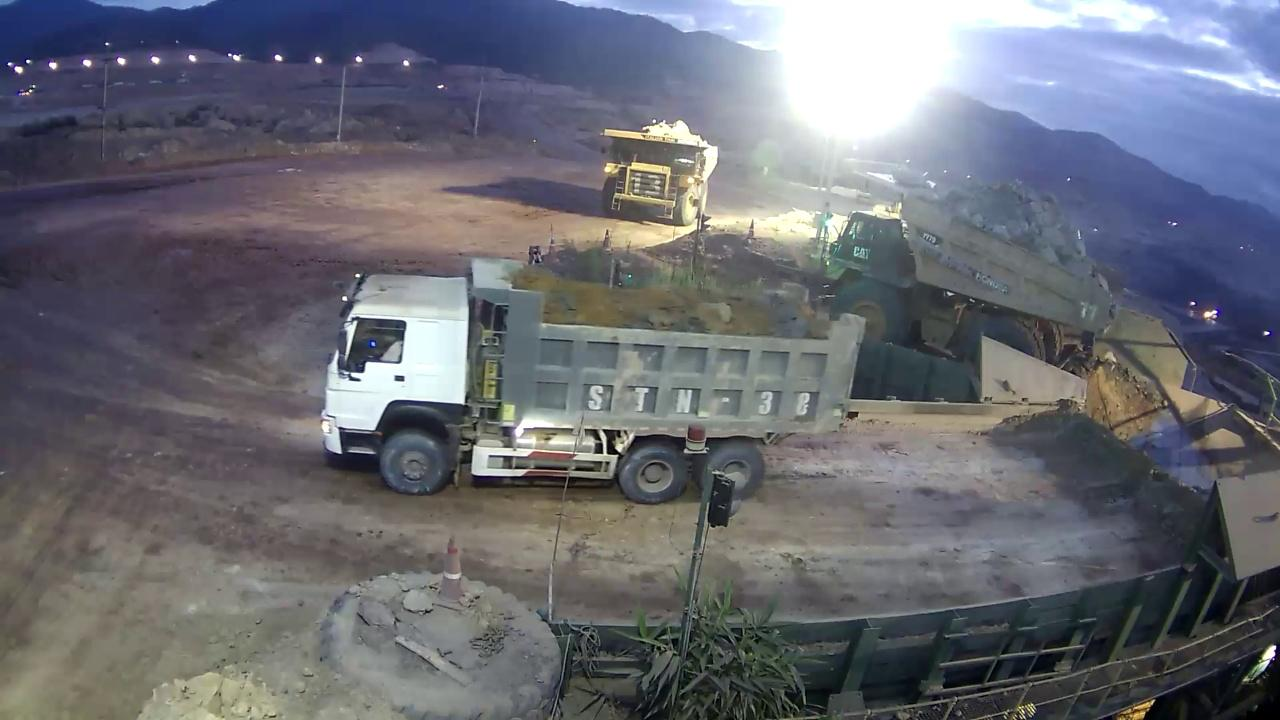dumping_soil: (813, 167, 1127, 373)
front_number: (629, 164, 664, 200)
full_load: (960, 176, 1097, 256), (633, 119, 703, 148)
mining_truck: (597, 114, 714, 230)
tail_number: (1071, 291, 1104, 324)
